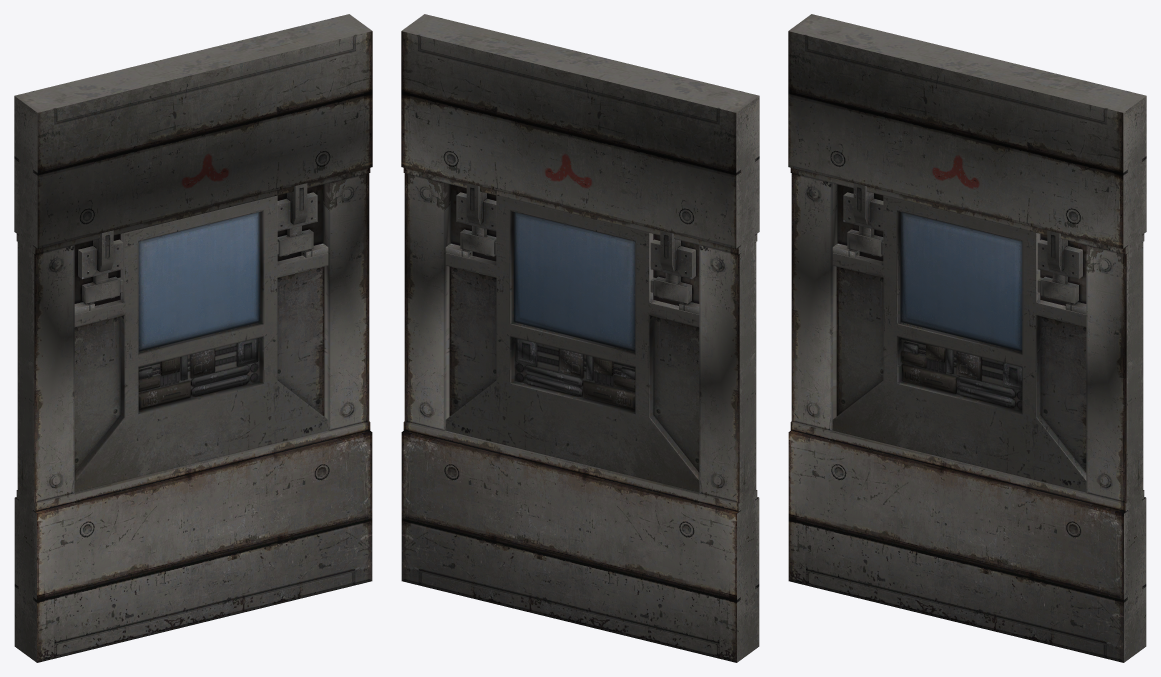
Rendered from slidedoor_flesher_medium_window_door.DAE.
The picture shows the model from 3 angles, left to right: view 1: azimuth 30°, elevation 25°; view 2: azimuth 150°, elevation 25°; view 3: azimuth 330°, elevation 25°; orthographic projection.
Visible parts, largest first — view 1: slidedoor_flesher_medium_window_door; view 2: slidedoor_flesher_medium_window_door; view 3: slidedoor_flesher_medium_window_door.
Part boxes in pixels (box(x1,y1,x2,y2)): slidedoor_flesher_medium_window_door: box(14, 14, 372, 662); slidedoor_flesher_medium_window_door: box(401, 14, 759, 662); slidedoor_flesher_medium_window_door: box(788, 14, 1146, 662).
Size of the model in its own units: 1.75 by 0.2111 by 2.74.
